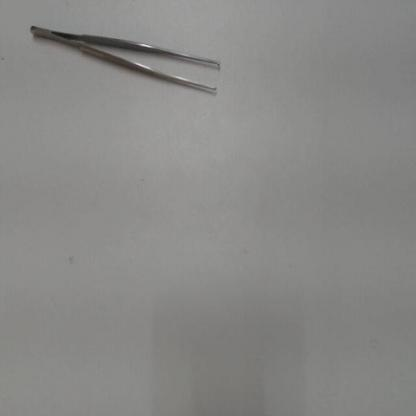Gillies Toothed Dissector: (26, 16, 227, 108)
